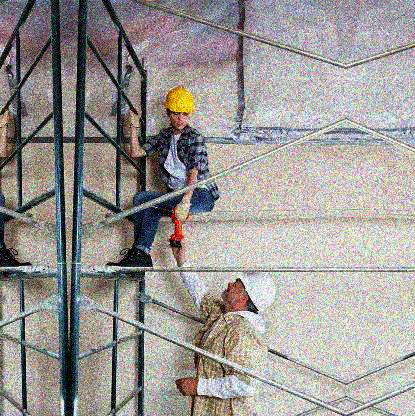helmet: (220, 272, 279, 313), (166, 86, 195, 134)
